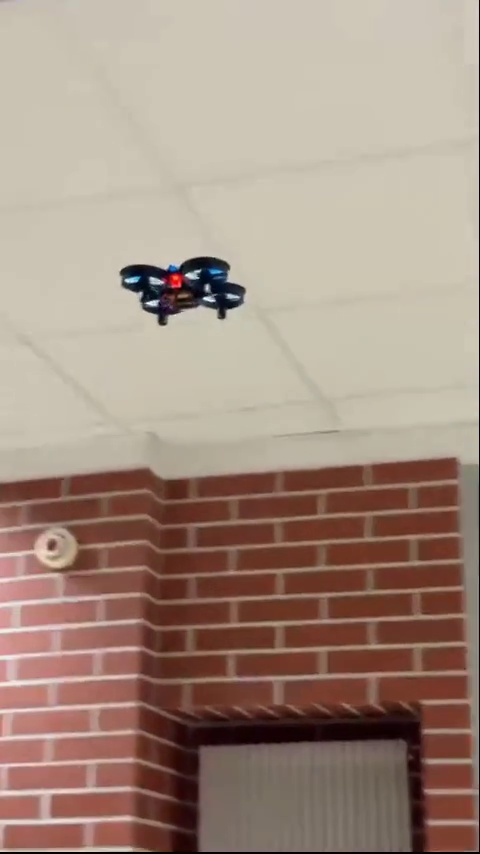drone: (118, 256, 248, 323)
